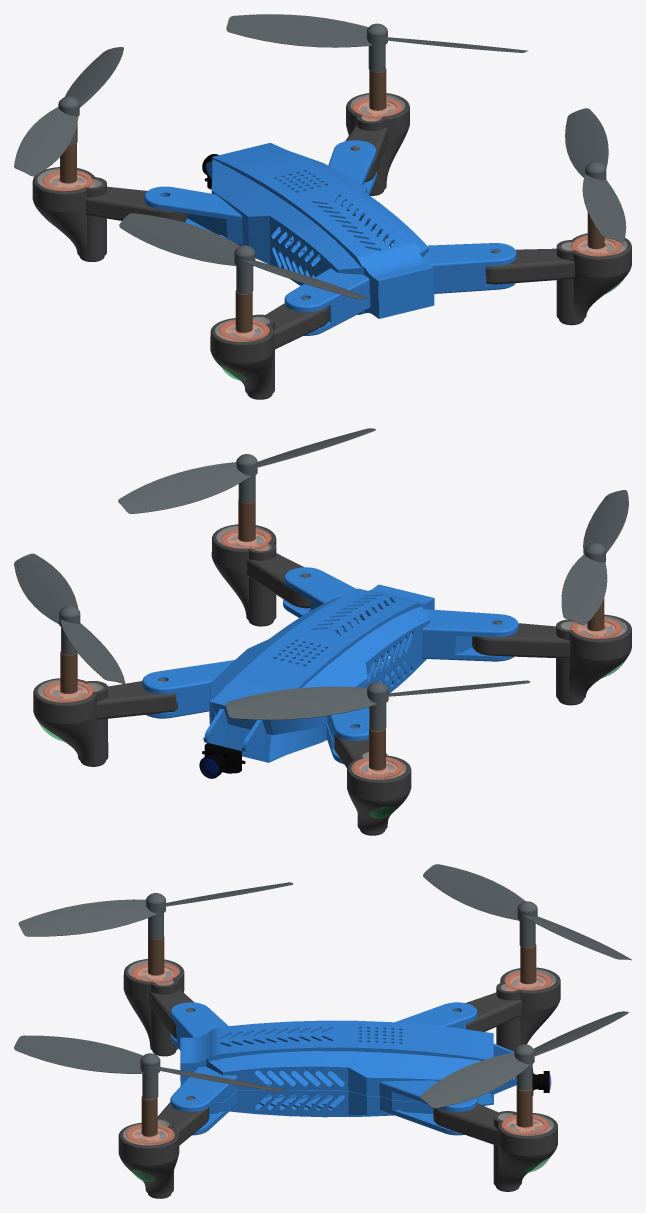
File: Drone.glb
The picture shows the model from 3 angles, top to bottom: view 1: azimuth 30°, elevation 25°; view 2: azimuth 150°, elevation 25°; view 3: azimuth 270°, elevation 25°; orthographic projection. The views are drawn at different scales.
Visible parts, largest first — view 1: Main frame.02, Leg.04, Leg.01, Leg.02, Main frame.01, Impellar Blade.03, Impellar Blade.02, Impellar Blade.01, Impellar Blade.04, Leg.03, Arm gear.02, Gearing.02 (+5 smaller); view 2: Main frame.02, Leg.02, Leg.03, Main frame.01, Leg.04, Impellar Blade.01, Impellar Blade.04, Impellar Blade.03, Impellar Blade.02, Leg.01, Beater disc.01, Arm gear.01 (+6 smaller); view 3: Main frame.02, Main frame.01, Leg.03, Impellar Blade.04, Impellar Blade.02, Leg.01, Impellar Blade.01, Impellar Blade.03, Leg.04, Leg.02, Arm gear.04, Gearing.03 (+6 smaller).
Part boxes in pixels (box(x1,y1,x2,y2)): Main frame.02: box(144, 140, 516, 313); Leg.04: box(485, 233, 631, 325); Leg.01: box(32, 167, 187, 261); Leg.02: box(210, 303, 329, 399); Main frame.01: box(184, 168, 515, 335); Impellar Blade.03: box(226, 14, 527, 72); Impellar Blade.02: box(119, 213, 369, 299); Impellar Blade.01: box(14, 47, 123, 176); Impellar Blade.04: box(565, 108, 626, 242); Leg.03: box(345, 93, 409, 195); Arm gear.02: box(219, 320, 269, 341); Gearing.02: box(235, 290, 252, 332); Main frame.02: box(142, 567, 518, 748); Leg.02: box(472, 614, 631, 705); Leg.03: box(33, 678, 177, 766); Main frame.01: box(146, 599, 513, 764); Leg.04: box(211, 524, 310, 626); Impellar Blade.01: box(225, 680, 529, 730); Impellar Blade.04: box(118, 428, 375, 513); Impellar Blade.03: box(14, 553, 125, 683); Impellar Blade.02: box(561, 490, 628, 625); Leg.01: box(334, 734, 411, 835); Beater disc.01: box(199, 743, 245, 778); Arm gear.01: box(352, 757, 403, 779); Main frame.02: box(170, 1002, 516, 1111); Main frame.01: box(170, 1034, 516, 1135); Leg.03: box(433, 1103, 557, 1191); Impellar Blade.04: box(14, 1035, 286, 1099); Impellar Blade.02: box(18, 882, 293, 939); Leg.01: box(466, 967, 560, 1051); Impellar Blade.01: box(423, 864, 631, 960); Impellar Blade.03: box(420, 1011, 628, 1108); Leg.04: box(118, 1102, 209, 1198); Leg.02: box(123, 959, 194, 1056); Arm gear.04: box(126, 1124, 174, 1145); Gearing.03: box(516, 1088, 532, 1127).
Bounding box in the file's own units: 0.2775 × 0.0819 × 0.3058.
